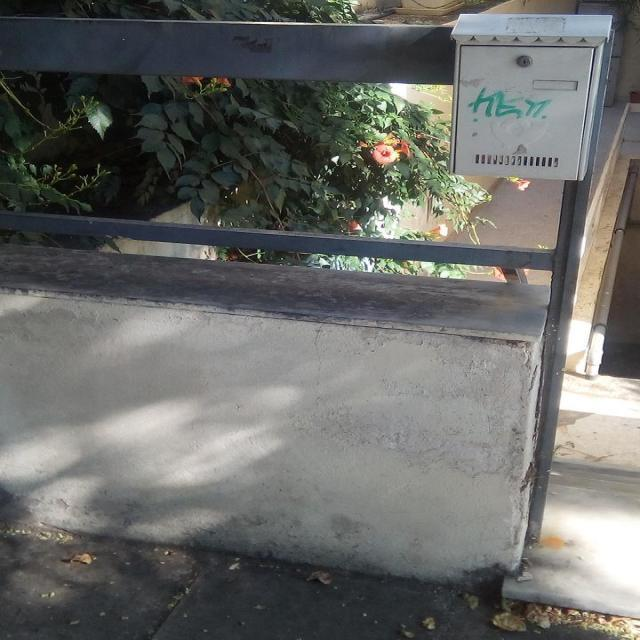nonspitting: (462, 86, 553, 125)
